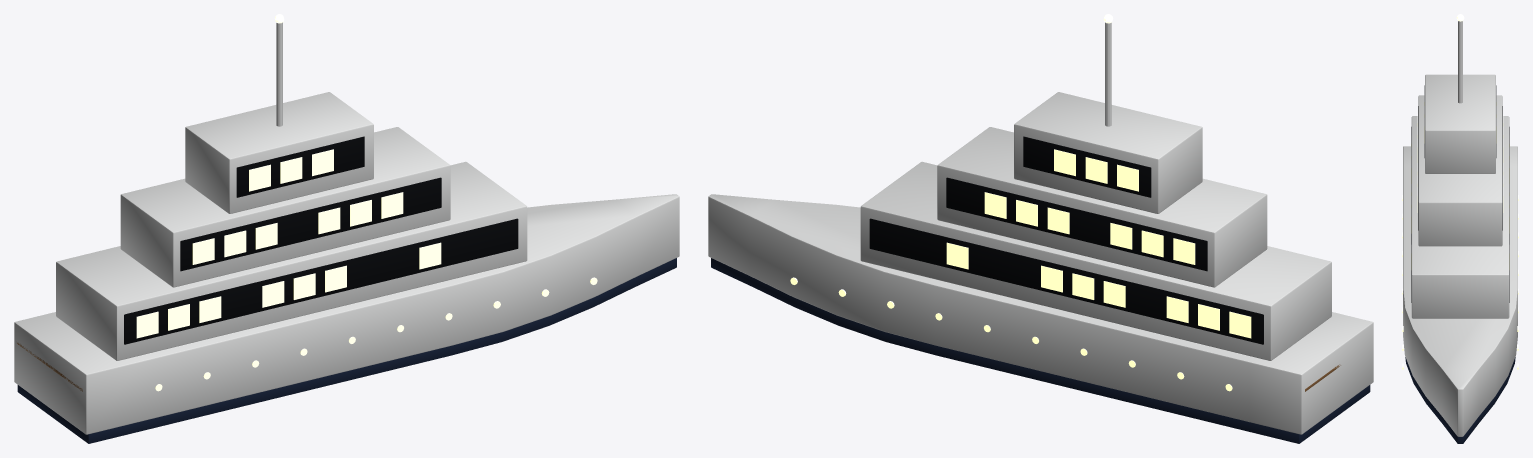
File: tideline_yacht.glb
3 views of the same model, side by side, from view 1: azimuth 30°, elevation 25°; view 2: azimuth 150°, elevation 25°; view 3: azimuth 270°, elevation 25° (orthographic). The views are drawn at different scales.
Visible parts, largest first — view 1: tideline_yacht; view 2: tideline_yacht; view 3: tideline_yacht.
Boxes of the visible parts, left/top/right/bottom form: tideline_yacht: left=14, top=14, right=679, bottom=443; tideline_yacht: left=708, top=14, right=1373, bottom=443; tideline_yacht: left=1402, top=14, right=1518, bottom=443.
Bounding box in the file's own units: 26 × 13.78 × 5.26.
